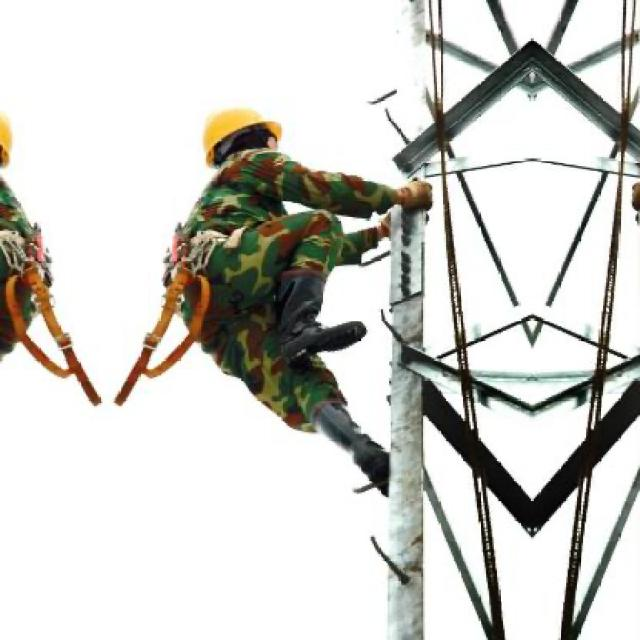helmet: (192, 98, 285, 191), (0, 99, 22, 192)
